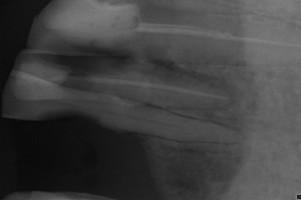Dental Caries: (137, 61, 257, 200)
